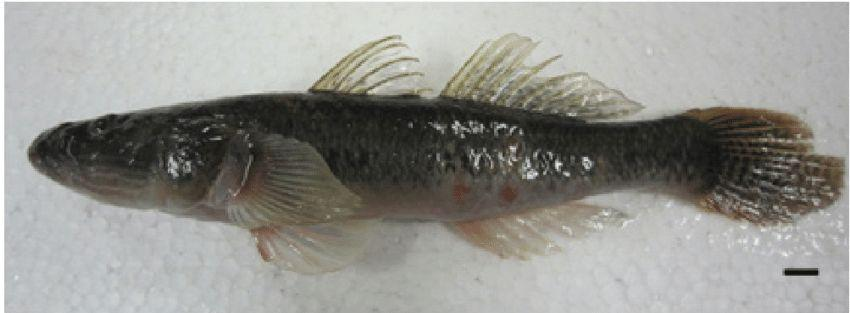Goby: (19, 32, 850, 272)
